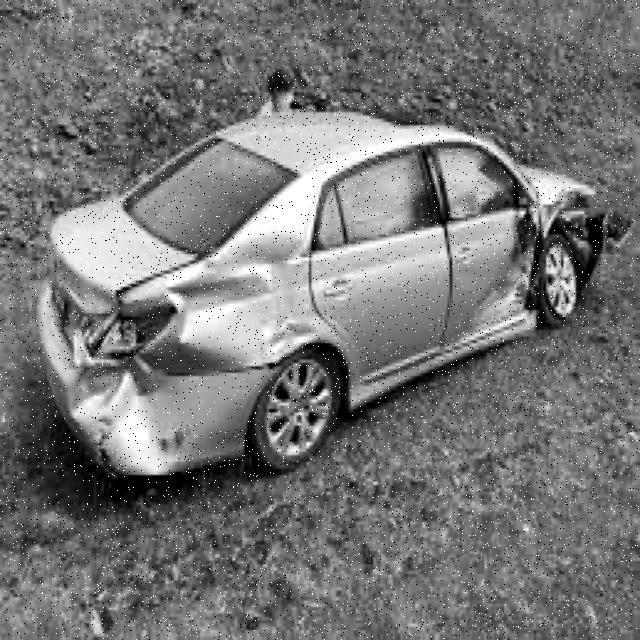Taillight-Damage: (50, 288, 200, 357)
doorouter-dent: (448, 218, 537, 346)
quaterpanel-dent: (173, 251, 311, 373)
rear-bumper-dent: (21, 351, 204, 486)
